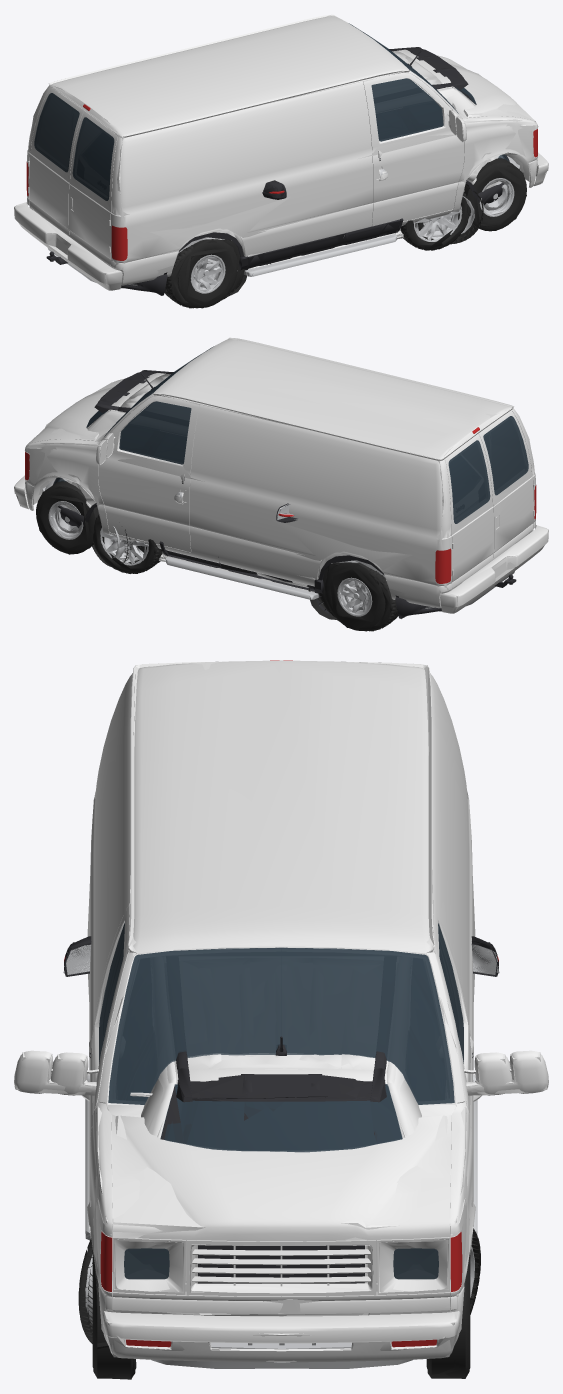
File: cars.glb
The picture shows the model from 3 angles, top to bottom: view 1: azimuth 30°, elevation 25°; view 2: azimuth 150°, elevation 25°; view 3: azimuth 270°, elevation 25°; orthographic projection. The views are drawn at different scales.
Visible parts, largest first — view 1: van, van_lo, suv, suv_body, suv_lo, suv_door0, camry, suv_door1; view 2: van, van_lo, suv, suv_body, suv_lo, camry; view 3: van, van_lo, suv, suv_body, suv_lo, camry, suv_door0.
Boxes of the visible parts, x1,y1,x2,y2 form: van: [14, 15, 548, 307]; van_lo: [14, 14, 548, 308]; suv: [121, 47, 504, 308]; suv_body: [121, 48, 502, 308]; suv_lo: [127, 48, 500, 305]; suv_door0: [247, 180, 344, 268]; camry: [49, 154, 520, 300]; suv_door1: [341, 219, 399, 245]; van: [14, 338, 548, 630]; van_lo: [14, 337, 548, 630]; suv: [58, 370, 441, 631]; suv_body: [59, 371, 441, 631]; suv_lo: [61, 371, 435, 630]; camry: [42, 477, 514, 620]; van: [14, 660, 548, 1378]; van_lo: [14, 662, 548, 1379]; suv: [64, 936, 498, 1274]; suv_body: [85, 1037, 477, 1237]; suv_lo: [63, 941, 499, 1142]; camry: [78, 1074, 481, 1368]; suv_door0: [64, 937, 91, 976].
Bounding box in the file's own units: 5.21 × 2 × 2.6.
